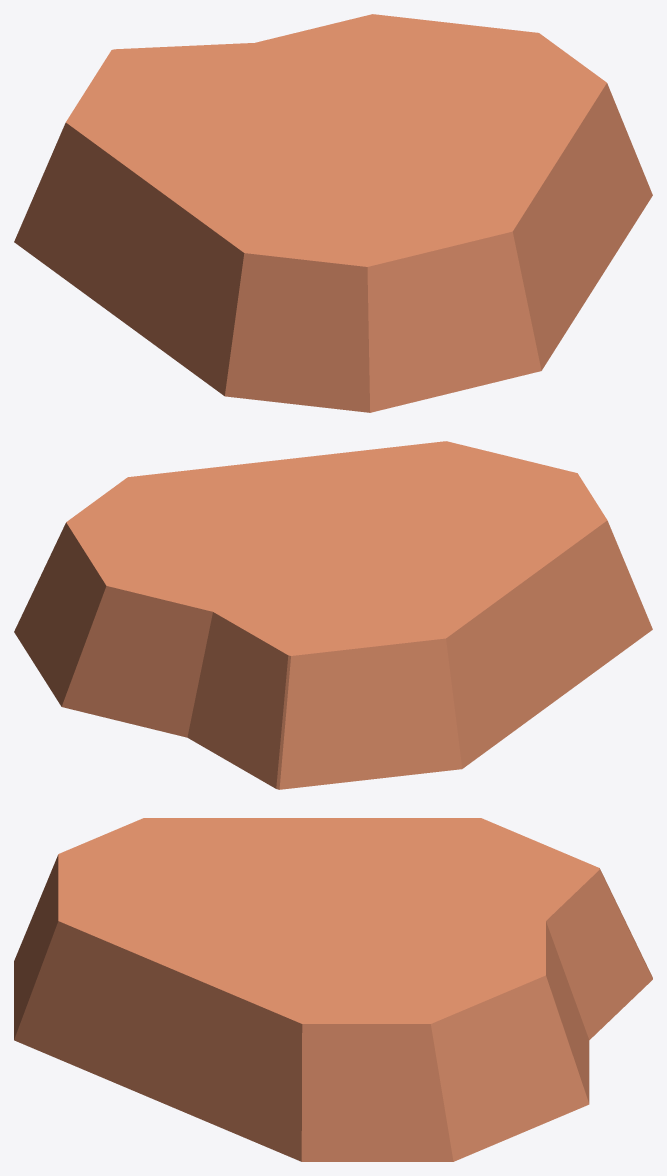
Rendered from Rock009.fbx.
3 renders of one model, top to bottom at view 1: azimuth 30°, elevation 25°; view 2: azimuth 150°, elevation 25°; view 3: azimuth 270°, elevation 25°, orthographic. The views are drawn at different scales.
Visible parts, largest first — view 1: Rock009; view 2: Rock009; view 3: Rock009.
Boxes of the visible parts, left/top/right/bottom form: Rock009: left=14, top=14, right=652, bottom=412; Rock009: left=14, top=441, right=652, bottom=789; Rock009: left=14, top=818, right=652, bottom=1161.
Bounding box in the file's own units: 80.58 × 18.05 × 89.48.
